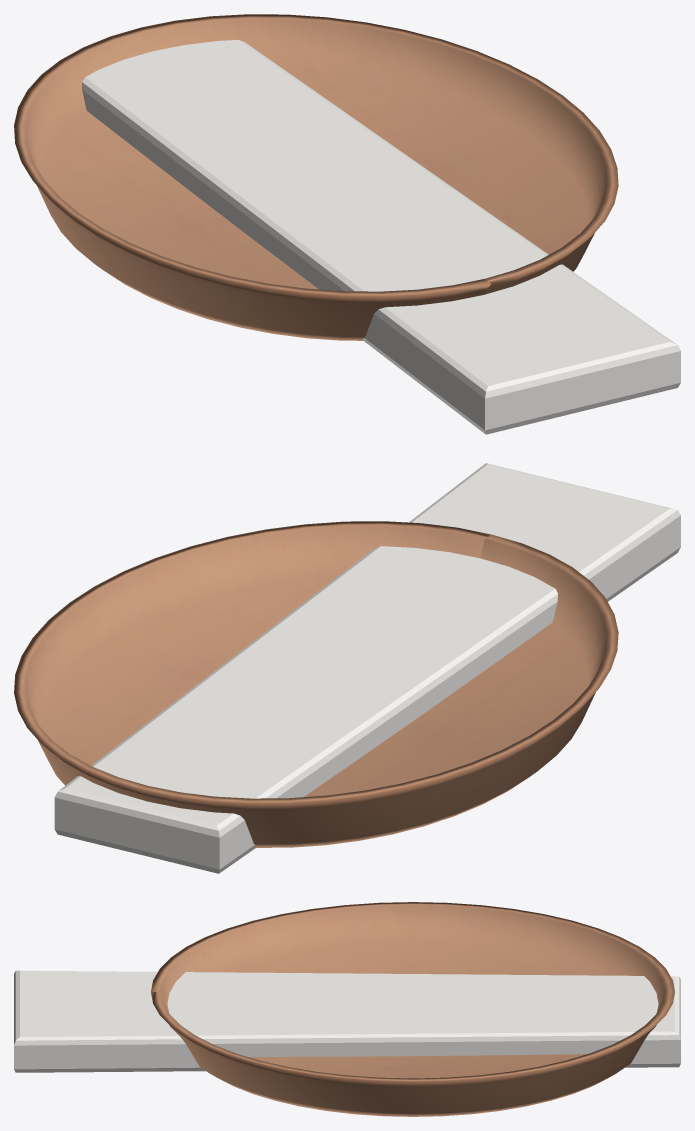
Rendered from ORI-64.glb.
3 views of the same model, one above another, from view 1: azimuth 30°, elevation 25°; view 2: azimuth 150°, elevation 25°; view 3: azimuth 270°, elevation 25° (orthographic). The views are drawn at different scales.
Bounding box in the file's own units: 0.065 × 0.008 × 0.1018.
2 materials, 1 textured.
